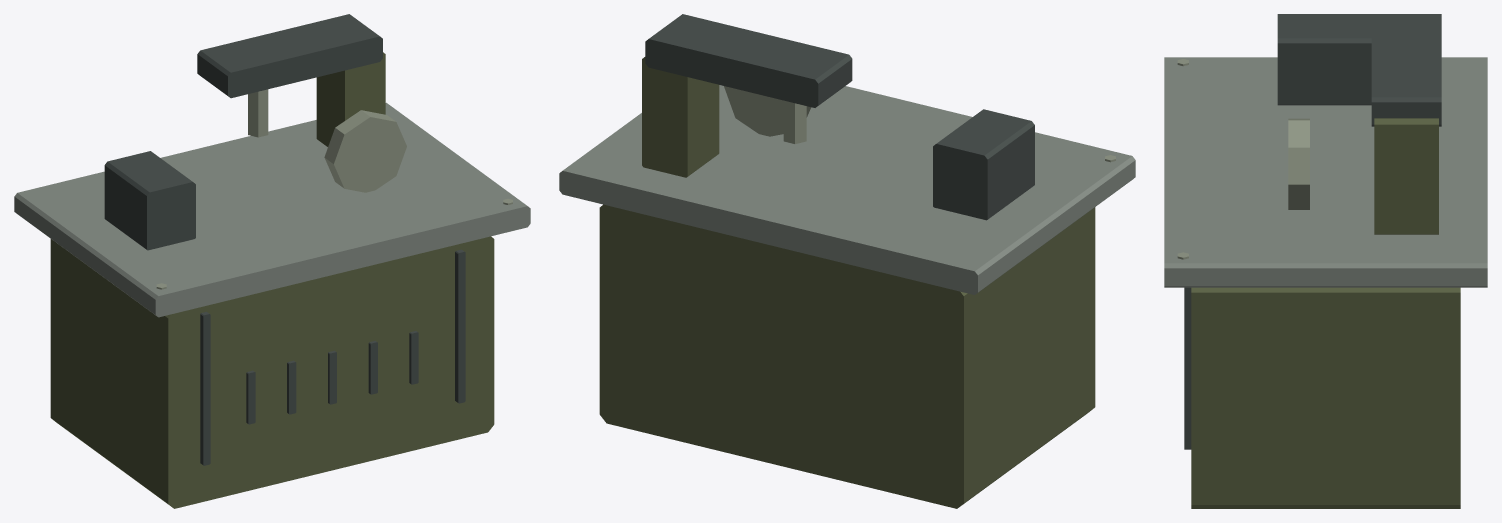
The model's file is MachinistBench.gltf.
3 renders of one model, left to right at view 1: azimuth 30°, elevation 25°; view 2: azimuth 150°, elevation 25°; view 3: azimuth 270°, elevation 25°, orthographic. The views are drawn at different scales.
Visible parts, largest first — view 1: MachinistBench; view 2: MachinistBench; view 3: MachinistBench.
Boxes of the visible parts, <box> form: MachinistBench: <box>14,14,530,508</box>; MachinistBench: <box>559,14,1135,508</box>; MachinistBench: <box>1164,14,1487,508</box>.
Size of the model in its own units: 0.92 by 0.81 by 0.6.
